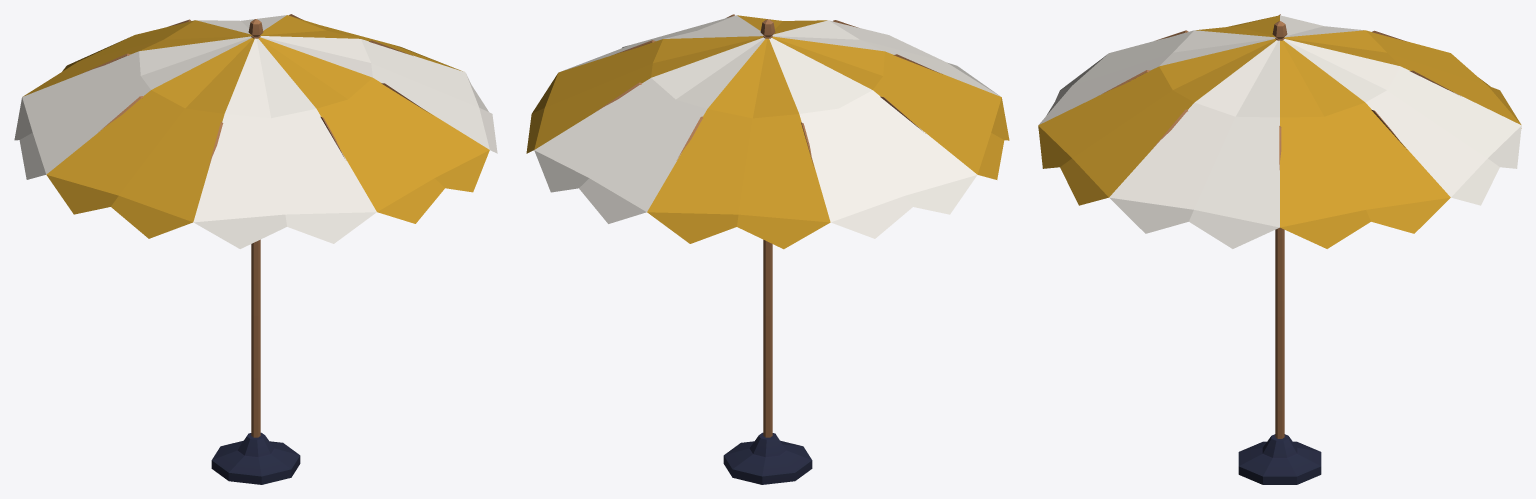
The model's file is parasol_mustard.glb.
3 renders of one model, left to right at view 1: azimuth 30°, elevation 25°; view 2: azimuth 150°, elevation 25°; view 3: azimuth 270°, elevation 25°, orthographic.
Parts seen in each view (by area): view 1: parasol; view 2: parasol; view 3: parasol.
Boxes of the visible parts, left/top/right/bottom form: parasol: left=14, top=14, right=497, bottom=484; parasol: left=526, top=14, right=1009, bottom=484; parasol: left=1038, top=14, right=1521, bottom=484.
Size of the model in its own units: 2.6 by 2.65 by 2.6.
Materials: 1 (1 with a texture image).
